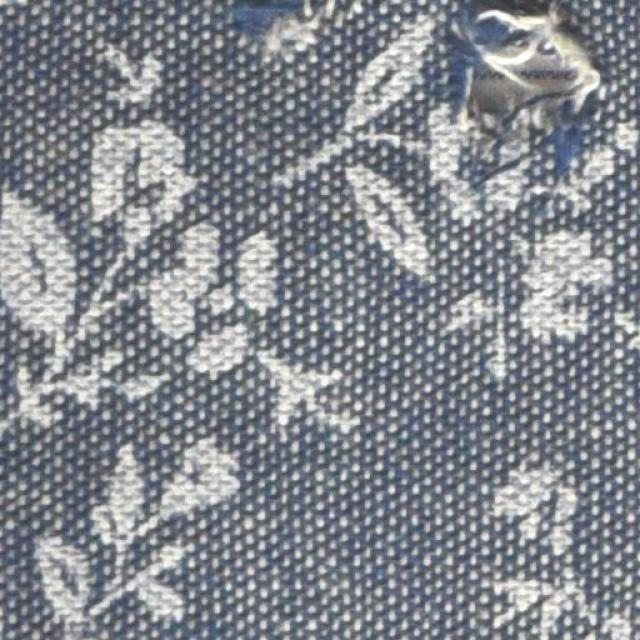Hole: (485, 42, 561, 116)
Snag: (450, 1, 618, 135), (225, 1, 343, 67)
